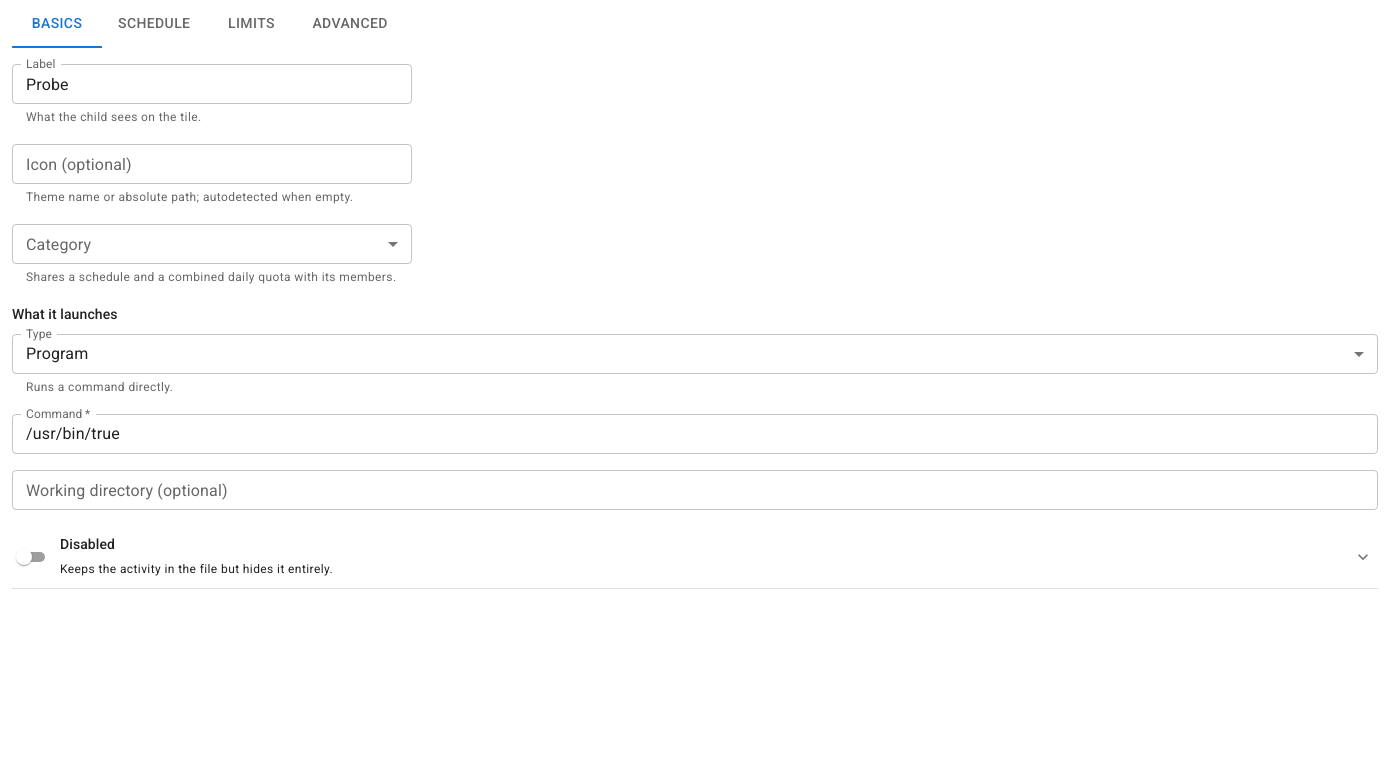
Test: an activity's own HUD edge › inherits the device setting until it is given one
The width and height of the screenshot is (1390, 768).
What coordinates should you click on to do the following:
click the tab "Advanced"
I would click on:
 (350, 24)
Its box is [296,0,404,48].
(page scrolled)
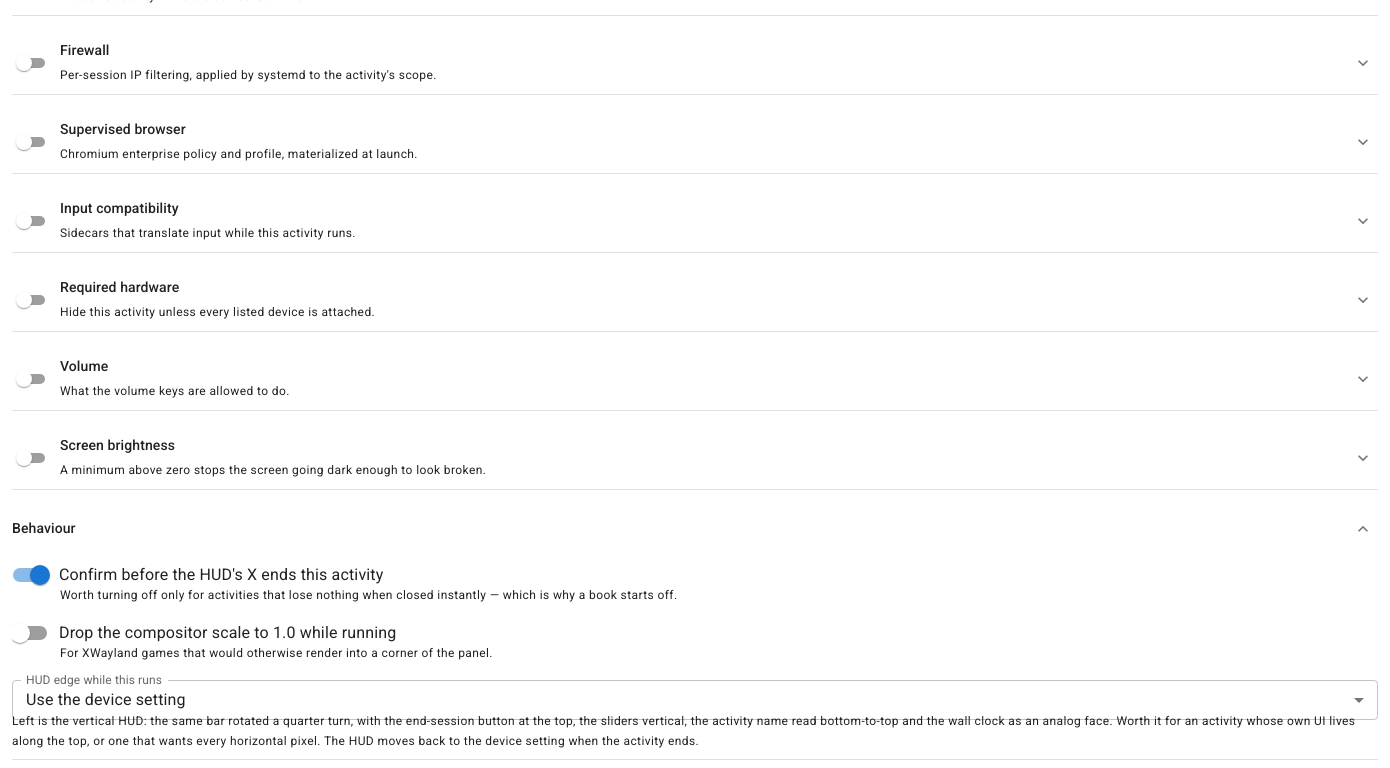
Expected: the dropdown named "HUD edge while this runs" reads "Use the device setting", [26,690,186,709]
